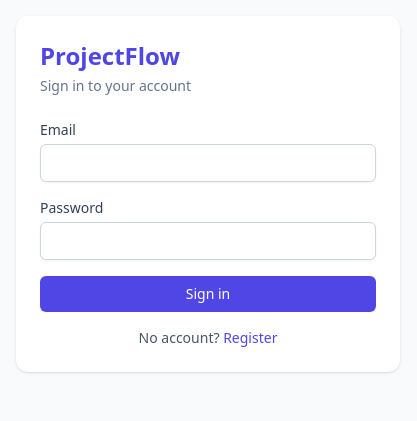
Scenario: LoginPage › shows a friendly message when the server rejects the login
Type "user@example.com" into the field labelled "Email".
click(208, 163); type("user@example.com")  # box [40,144,376,182]
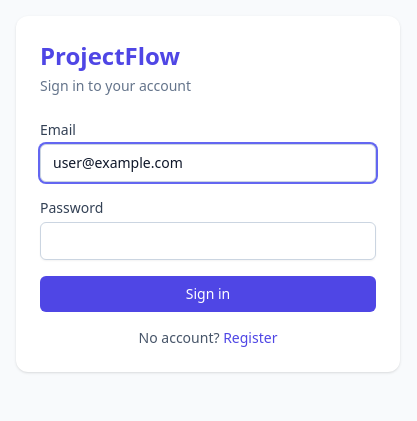
Type "wrongpass1" into the password field labelled "Password".
click(208, 241); type("wrongpass1")  # box [40,222,376,260]
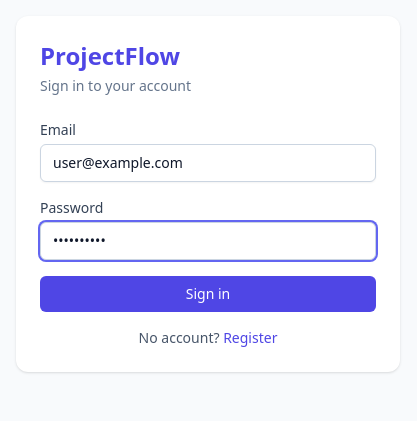
Click the button "Sign in".
click(208, 294)  # box [40,276,376,312]
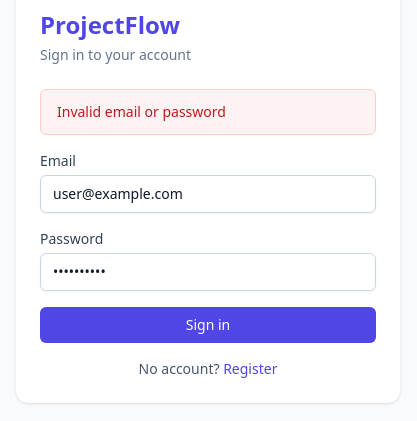
Expected: the message reads "Invalid email or password", [57,102,226,121]
